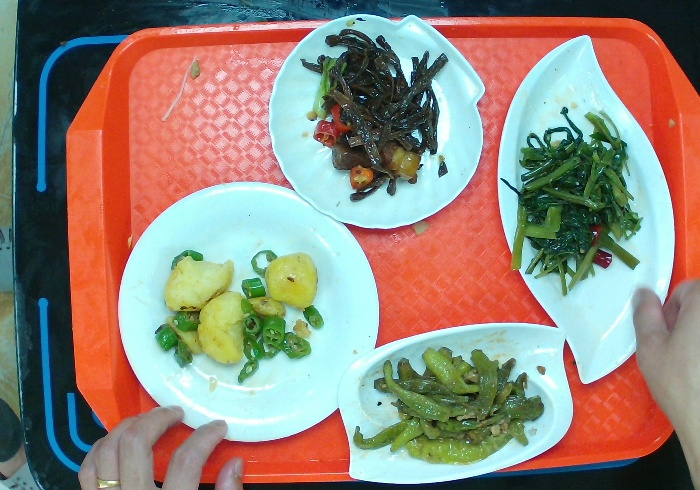RJxy-Bei_Ke_Wan: (268, 10, 487, 229)
RJxy-Jian_Jiao_Fang_Die: (340, 322, 579, 490)
RJxy-Jian_Jiao_Pan: (494, 29, 679, 387)
RJxy-Yuan_Pan: (114, 179, 382, 444)
